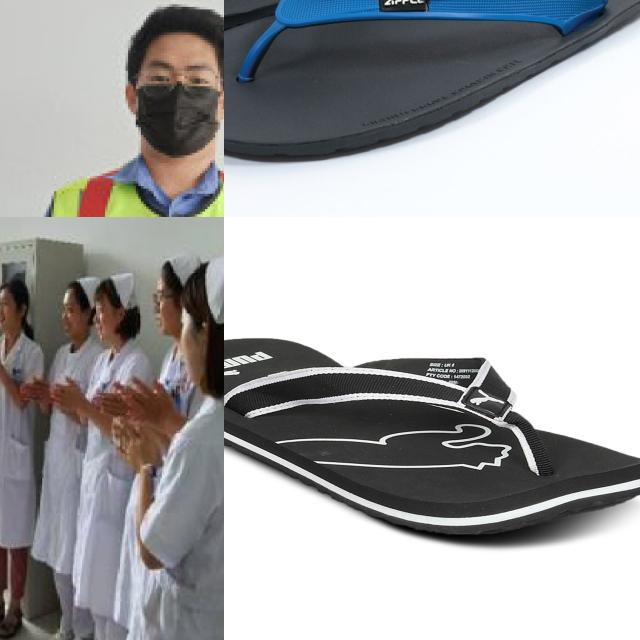Sandals: (224, 336, 640, 537), (224, 0, 640, 163)
face_nomask: (179, 295, 207, 378), (153, 275, 177, 332), (60, 295, 80, 340), (94, 292, 110, 343), (0, 293, 14, 327)
hand_noglove: (112, 417, 154, 472), (130, 375, 171, 431), (91, 381, 127, 420), (53, 375, 80, 409), (19, 377, 48, 404)
head_nohelmet: (172, 265, 224, 324), (151, 253, 193, 289), (87, 275, 134, 307), (58, 276, 88, 302), (0, 279, 25, 301)
person: (114, 270, 224, 640), (86, 264, 145, 640), (0, 265, 47, 640), (43, 270, 89, 640)
